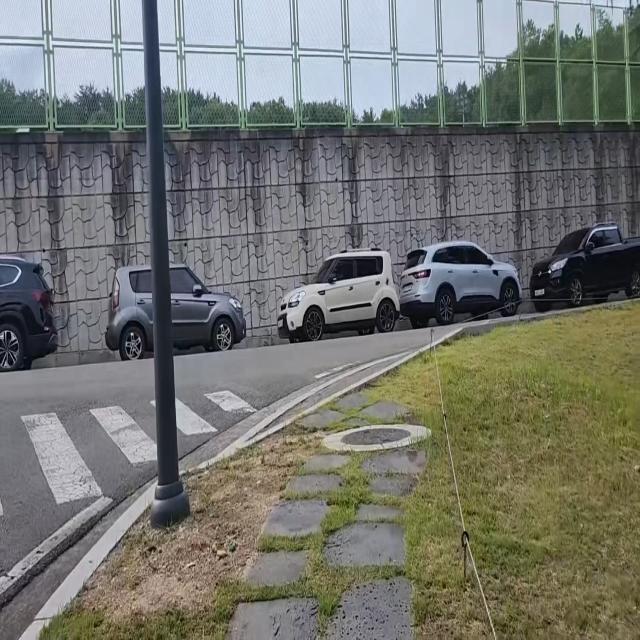obstacle: (142, 0, 191, 529), (525, 213, 640, 311), (0, 247, 62, 375)
road: (0, 327, 466, 640)
